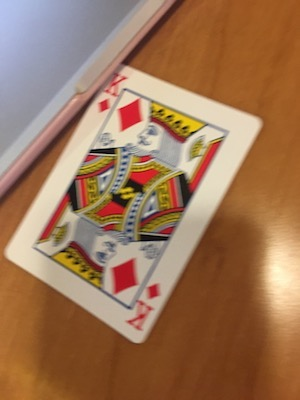KingOfDiamonds: (11, 48, 266, 346)
